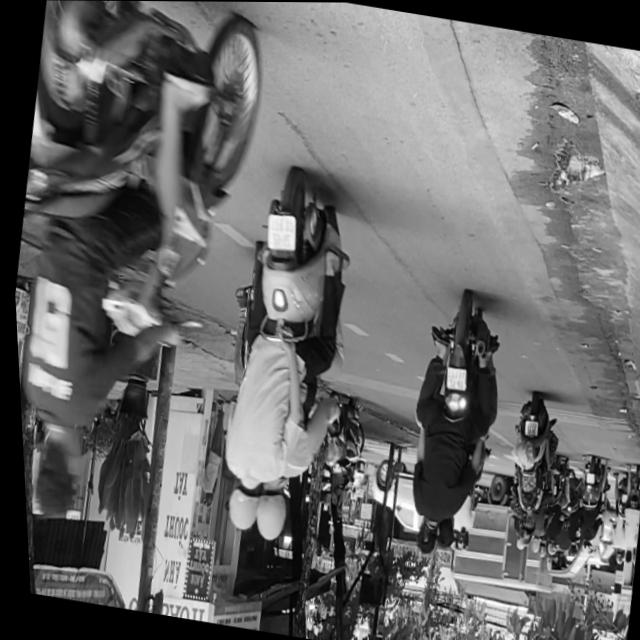helmet: (243, 479, 287, 546), (217, 478, 258, 534)
licenseplate: (0, 0, 300, 552), (185, 161, 378, 554), (382, 287, 516, 567)
motorcyclist: (18, 423, 84, 525), (406, 518, 435, 558), (427, 518, 450, 554)
nohelmet: (261, 214, 295, 253), (439, 367, 463, 392)
